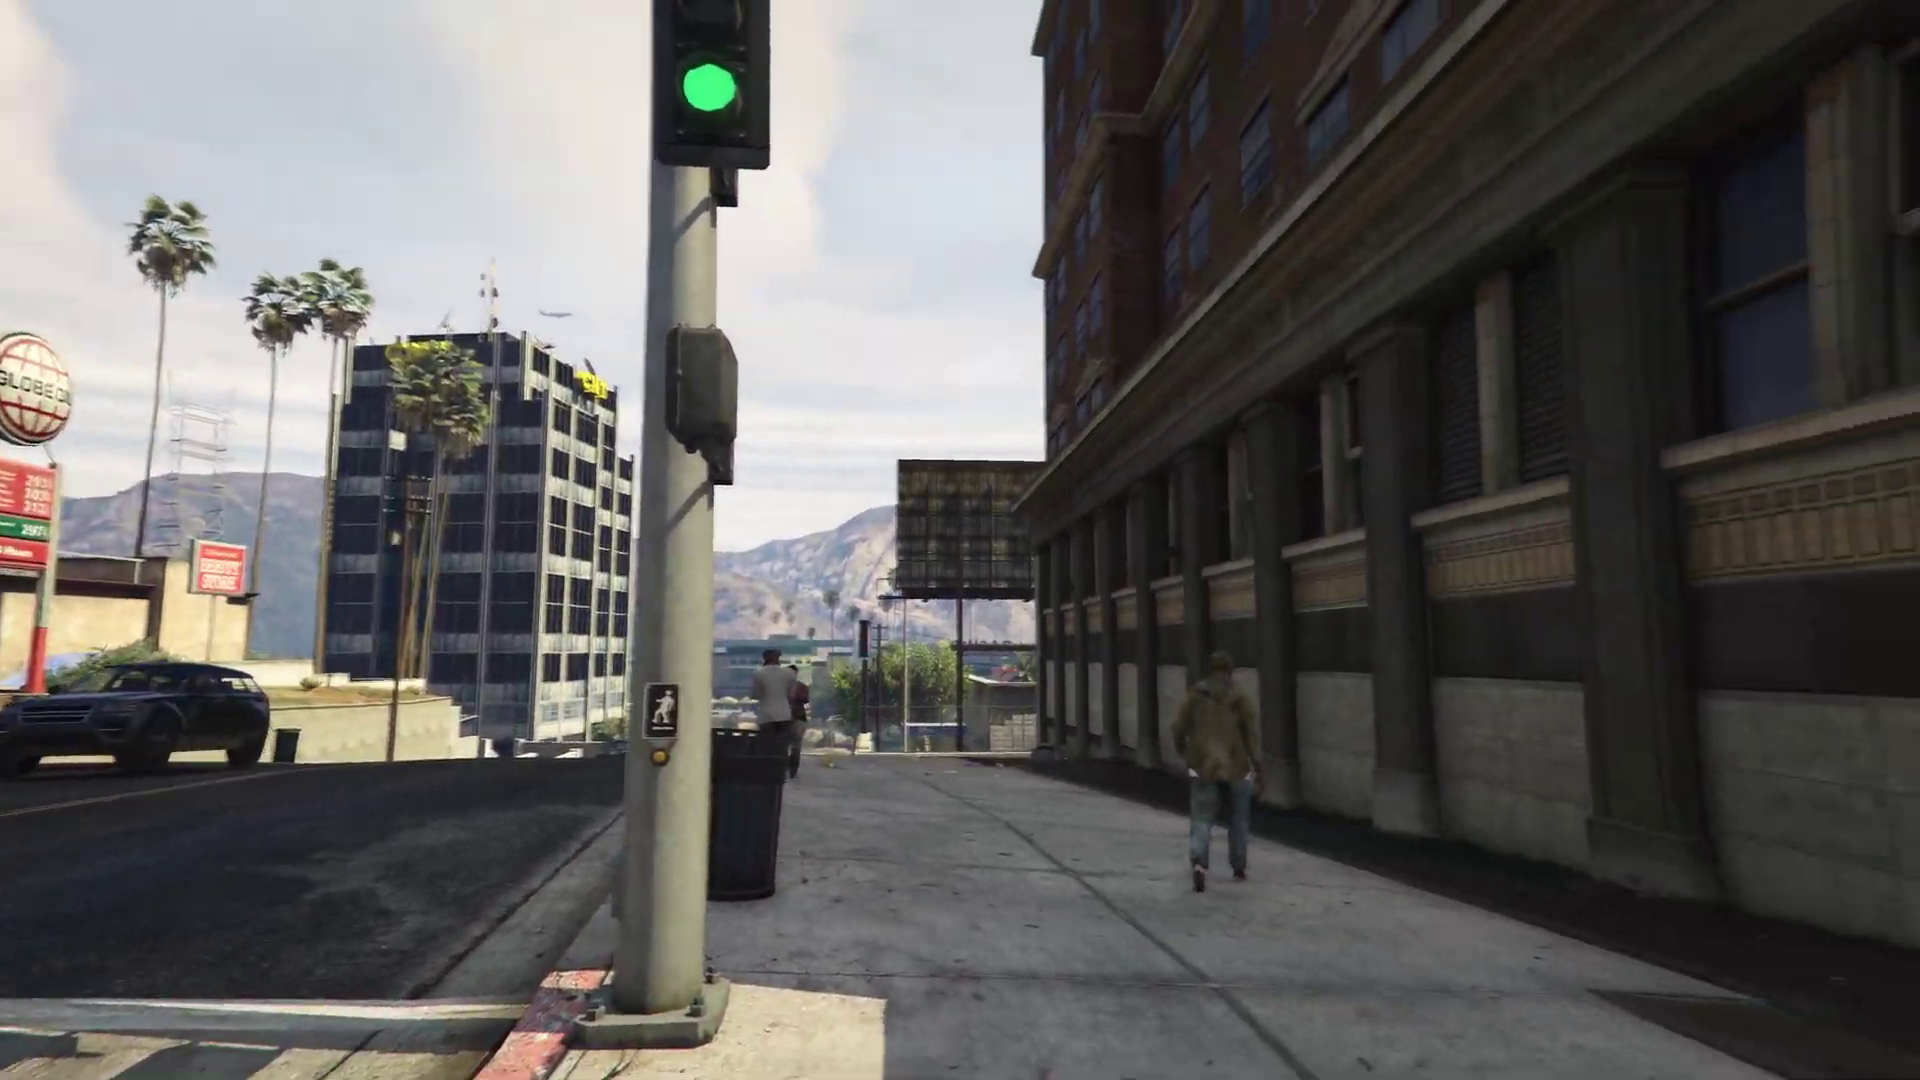car: (1, 661, 267, 773)
person: (1173, 648, 1265, 886), (750, 650, 788, 758), (786, 665, 808, 778)
traffic light: (653, 1, 774, 164), (668, 326, 737, 465)
